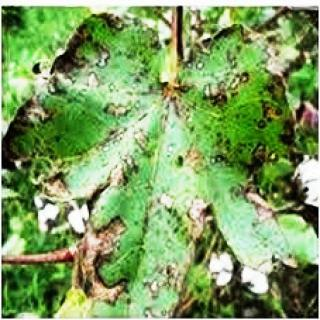blight: (6, 11, 176, 309), (190, 22, 314, 265)
